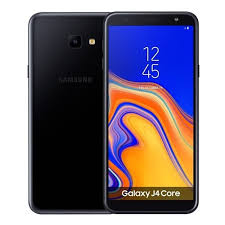samsung: (104, 10, 198, 215), (25, 9, 108, 218)
